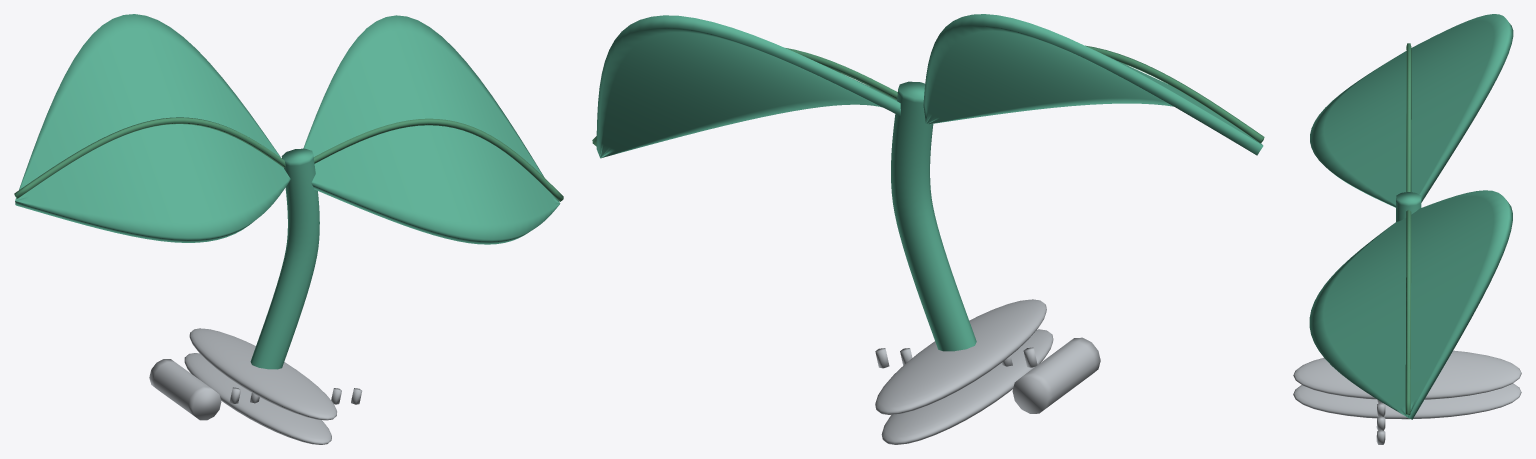
File: Masculine-locs-pashmina260-sprout.glb
3 renders of one model, left to right at view 1: azimuth 30°, elevation 25°; view 2: azimuth 150°, elevation 25°; view 3: azimuth 270°, elevation 25°, orthographic. The views are drawn at different scales.
Parts seen in each view (by area): view 1: 226 extra / Accessory / mint226, 226 extra / Sprout / clip silver235, 226 extra / Sprout / leaf vein235; view 2: 226 extra / Accessory / mint226, 226 extra / Sprout / clip silver235, 226 extra / Sprout / leaf vein235; view 3: 226 extra / Accessory / mint226, 226 extra / Sprout / clip silver235, 226 extra / Sprout / leaf vein235.
Part boxes in pixels (bbox=[...]): 226 extra / Accessory / mint226: bbox=[15, 14, 560, 369]; 226 extra / Sprout / clip silver235: bbox=[149, 328, 362, 444]; 226 extra / Sprout / leaf vein235: bbox=[14, 117, 563, 201]; 226 extra / Accessory / mint226: bbox=[596, 14, 1263, 351]; 226 extra / Sprout / clip silver235: bbox=[875, 299, 1100, 444]; 226 extra / Sprout / leaf vein235: bbox=[592, 45, 1264, 146]; 226 extra / Accessory / mint226: bbox=[1309, 14, 1513, 419]; 226 extra / Sprout / clip silver235: bbox=[1293, 350, 1521, 444]; 226 extra / Sprout / leaf vein235: bbox=[1405, 43, 1411, 414].
Bounding box in the file's own units: 0.2643 × 0.174 × 0.104.
